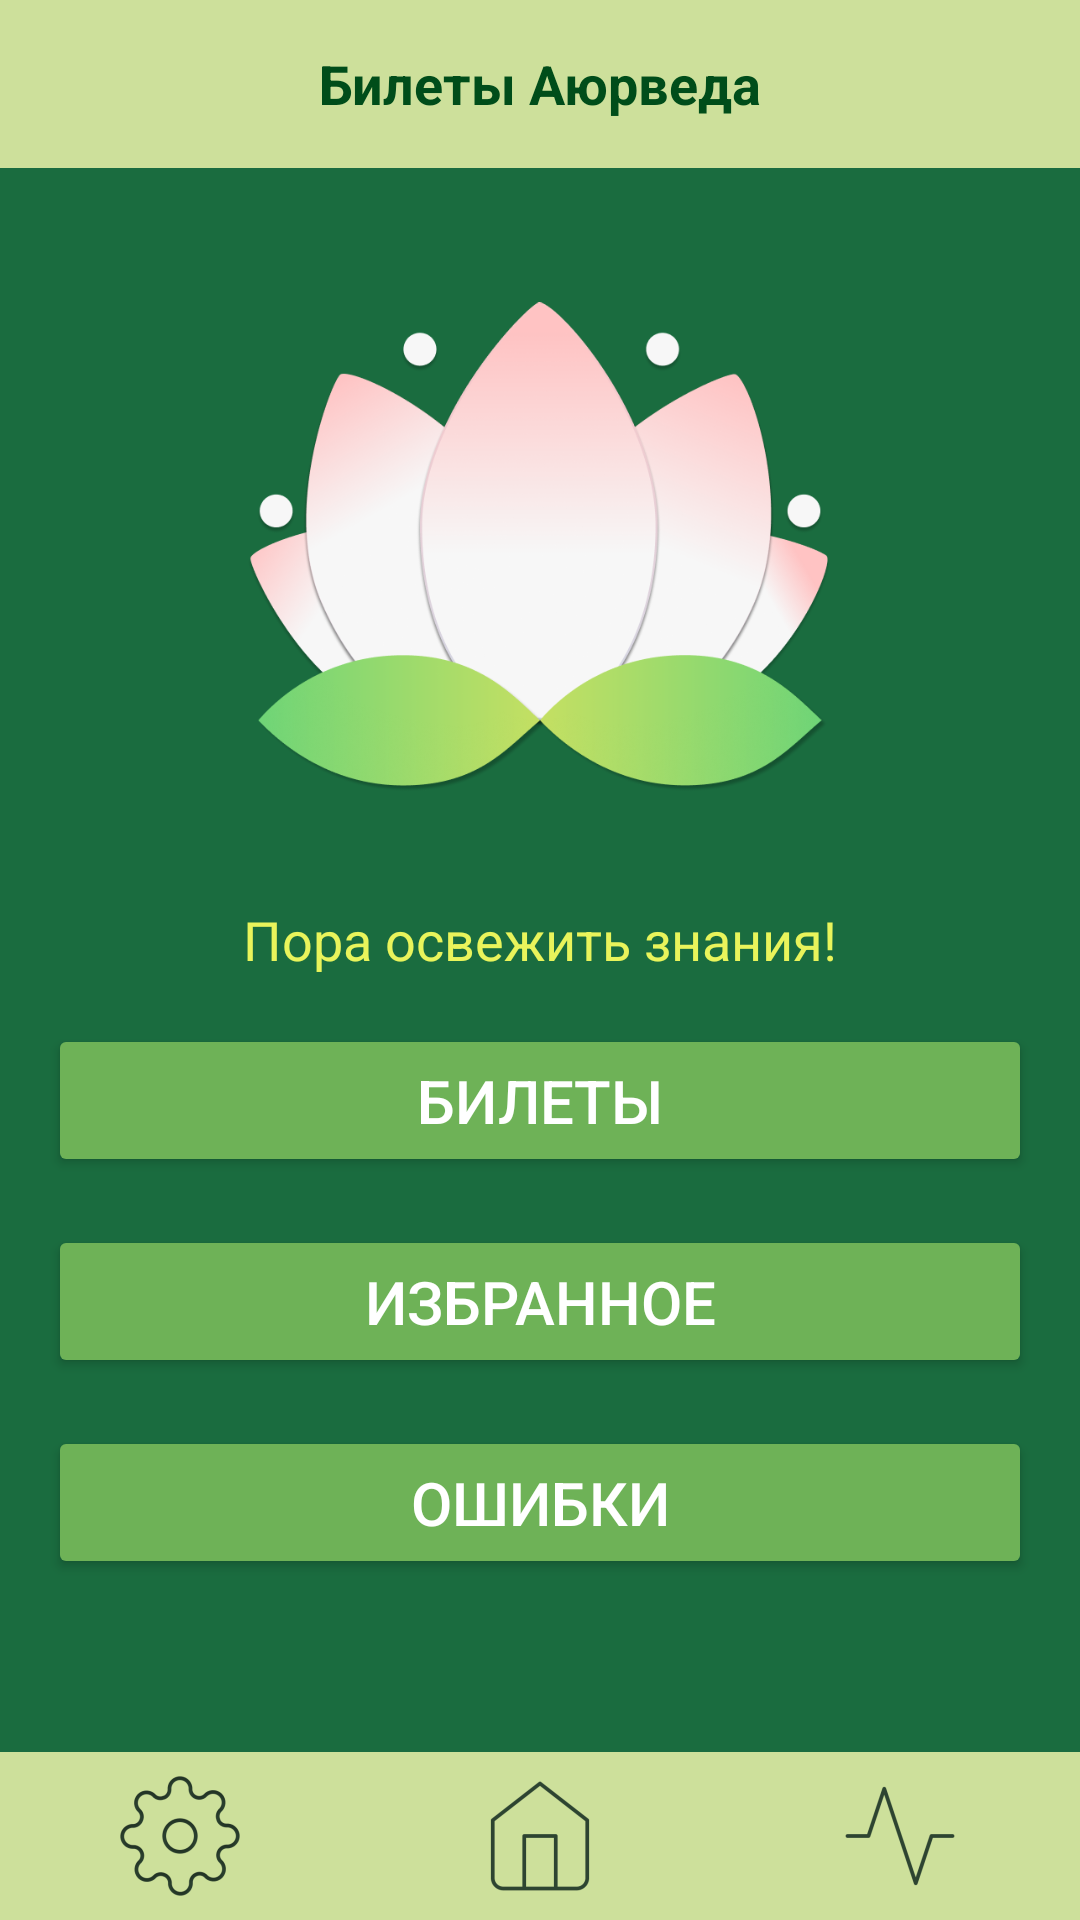

Named icons in this screenshot (1080*1920) and their bounding boxes, [x1,y1,x2,y2]:
home: [491,1781,589,1891]
setting: [120,1776,240,1896]
stats: [845,1787,955,1885]
